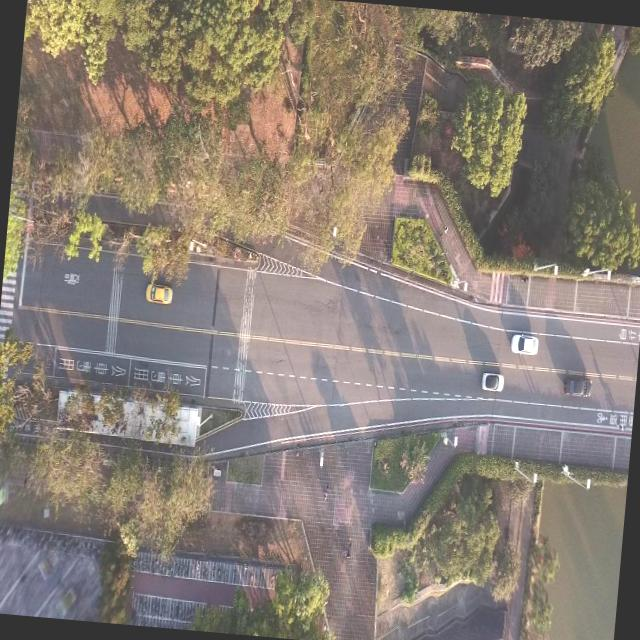car: (563, 370, 597, 404), (508, 329, 538, 355), (479, 367, 505, 393), (145, 282, 173, 304)
